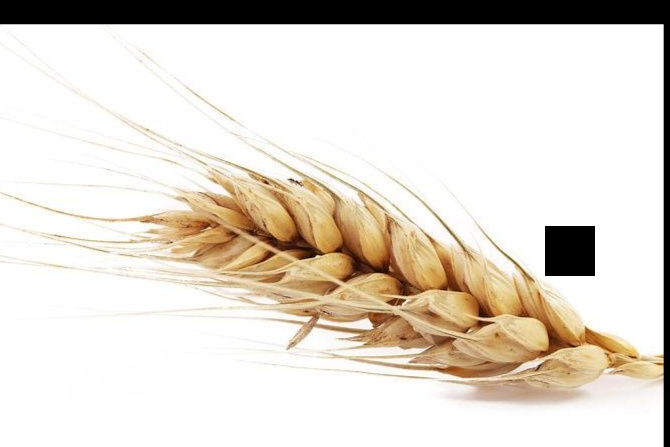wheat: (90, 121, 645, 377)
